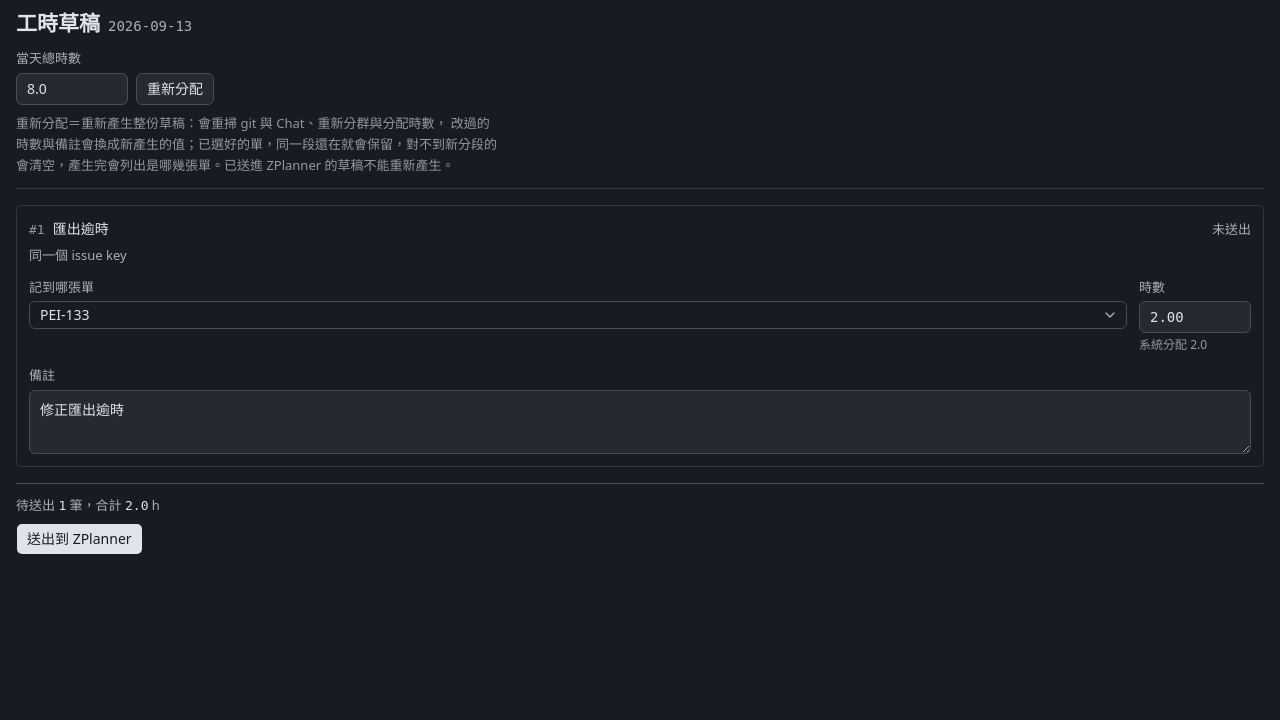
WorklogDayWorkspace：送出（AC-10、AC-11） › 卡片上打了字還沒確認 → 送出鈕停用（D-16）；確認並存好後恢復
Check: the button "送出到 ZPlanner" is enabled, box x1=16 y1=523 x2=143 y2=555
Replace the text in the field labelled "時數" with "3.00" at (1195, 317), box x1=1139 y1=301 x2=1251 y2=333
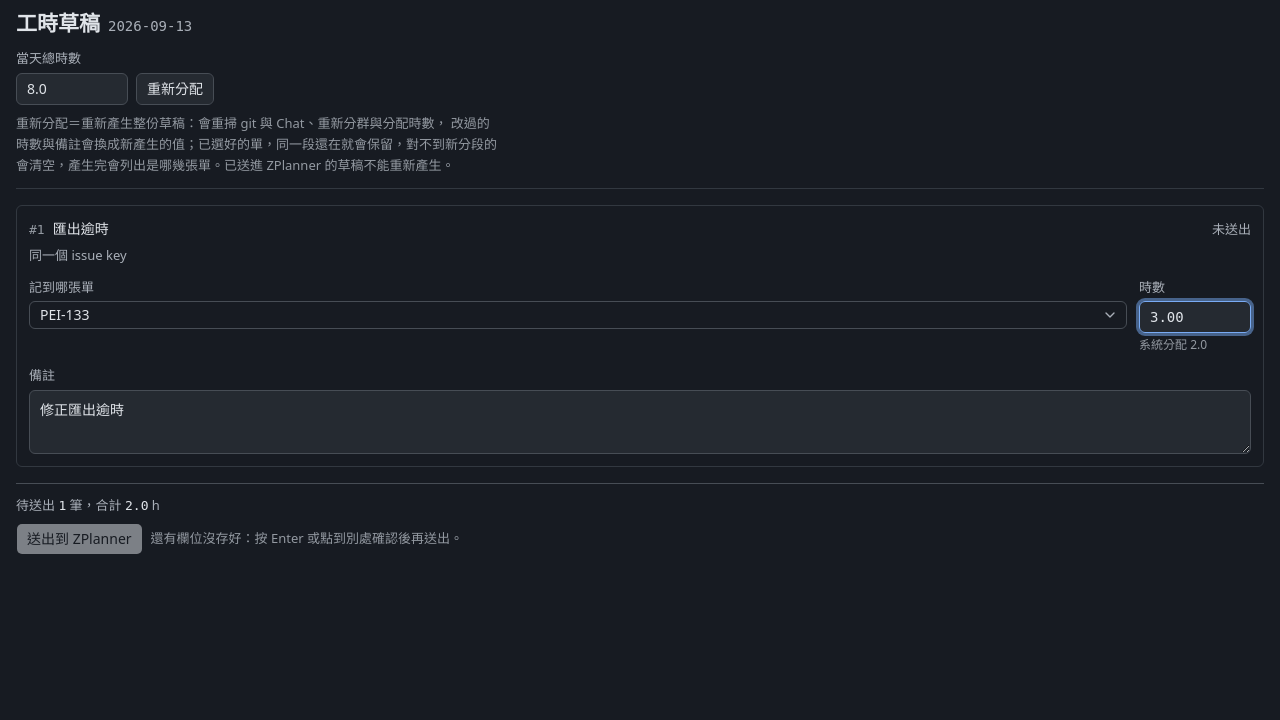
Check: the button "送出到 ZPlanner" is disabled, box x1=16 y1=523 x2=143 y2=555
Press Tab
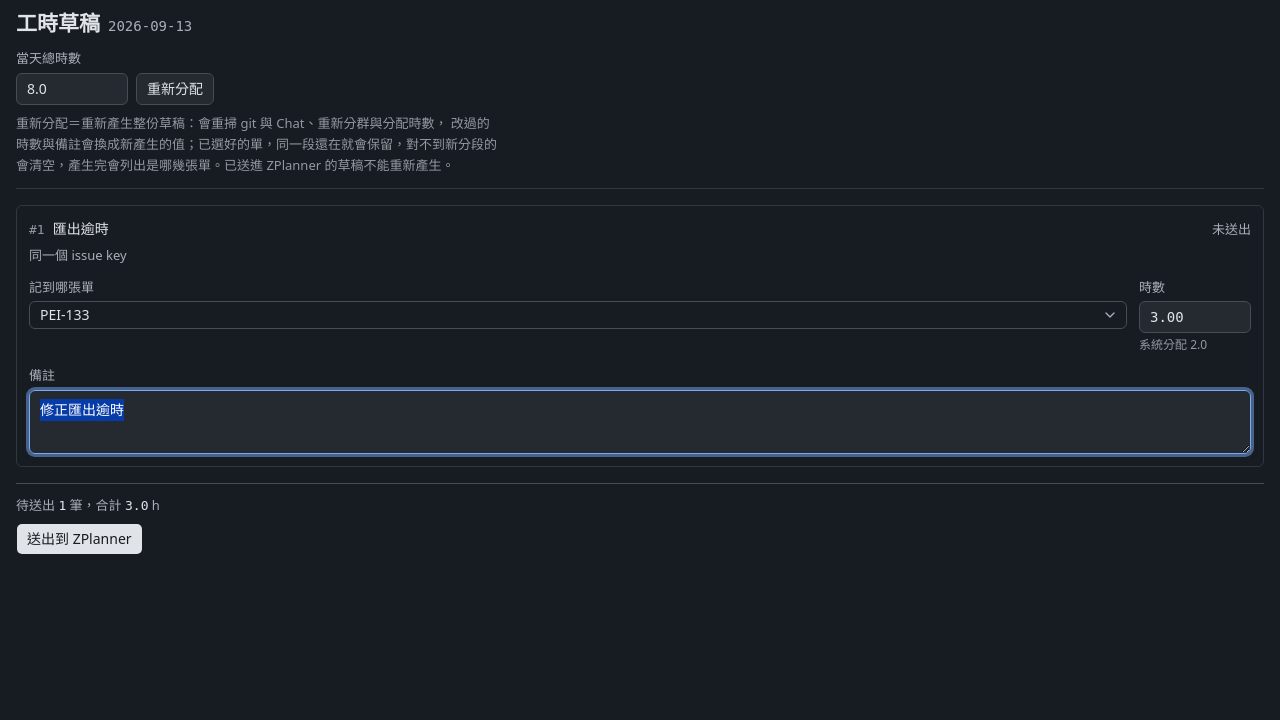
Check: the button "送出到 ZPlanner" is enabled, box x1=16 y1=523 x2=143 y2=555
